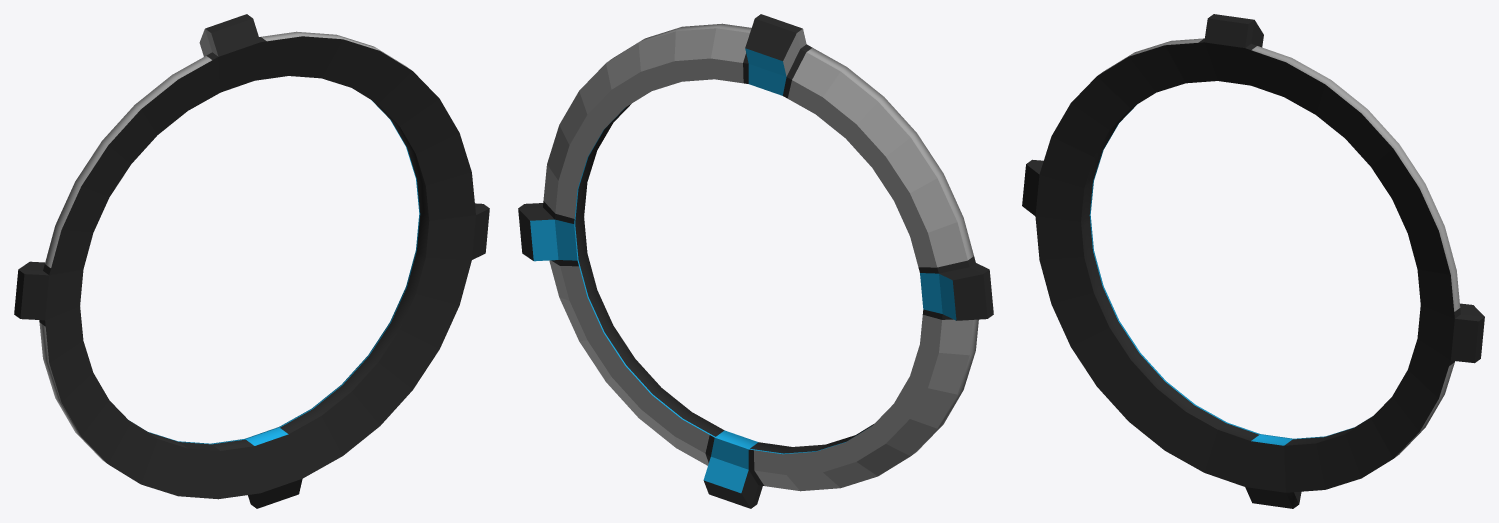
File: Deck4.fbx
3 renders of one model, left to right at view 1: azimuth 30°, elevation 25°; view 2: azimuth 150°, elevation 25°; view 3: azimuth 330°, elevation 25°, orthographic. The views are drawn at different scales.
Parts seen in each view (by area): view 1: Deck4; view 2: Deck4; view 3: Deck4.
Boxes of the visible parts, x1,y1,x2,y2 form: Deck4: (14,14,489,508); Deck4: (518,14,993,508); Deck4: (1022,14,1484,508).
Size of the model in its own units: 218 by 218 by 17.13.
